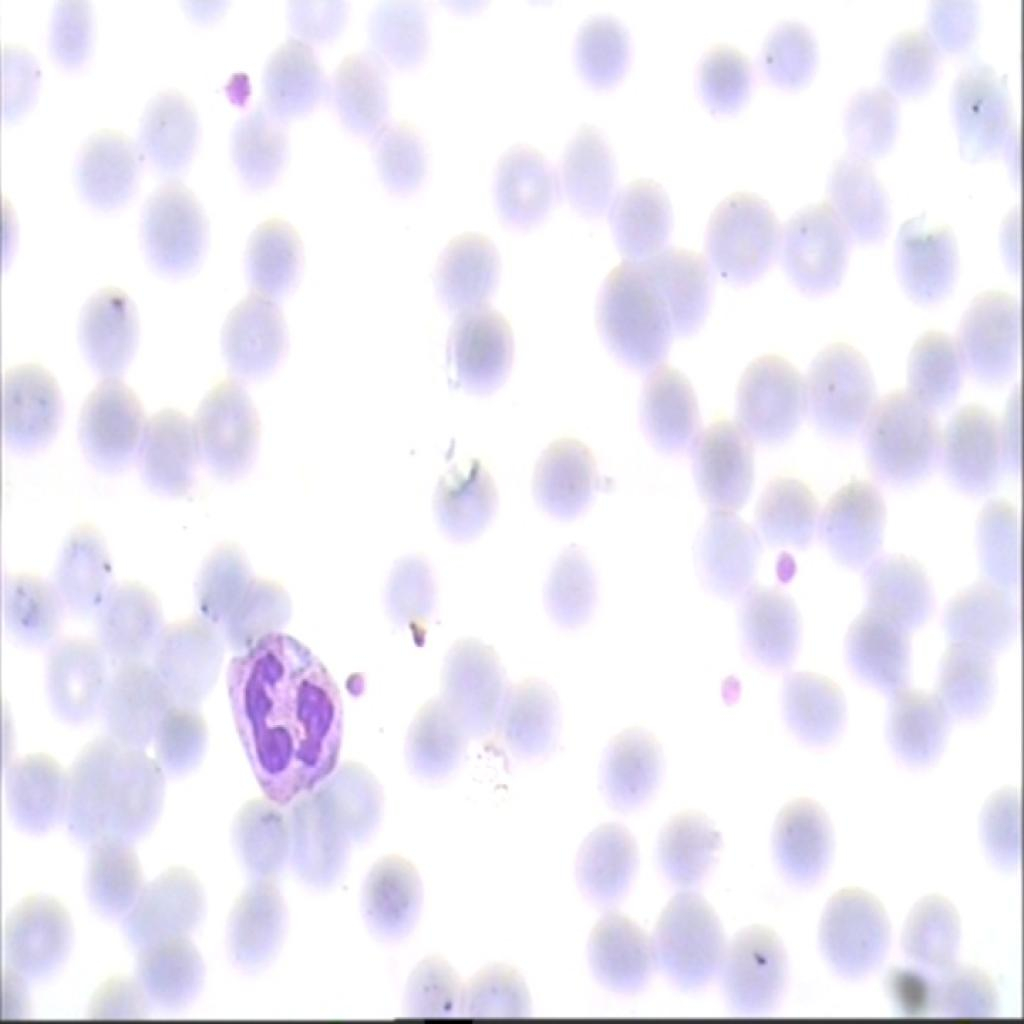Neutrofil: (222, 617, 345, 802), (218, 50, 264, 106), (765, 538, 809, 596), (333, 656, 377, 704), (398, 610, 431, 654), (708, 652, 736, 702), (747, 948, 768, 986)
Platelet: (107, 279, 125, 313)
